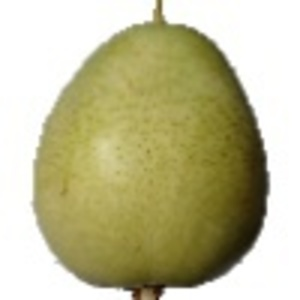pera: (30, 1, 270, 300)
